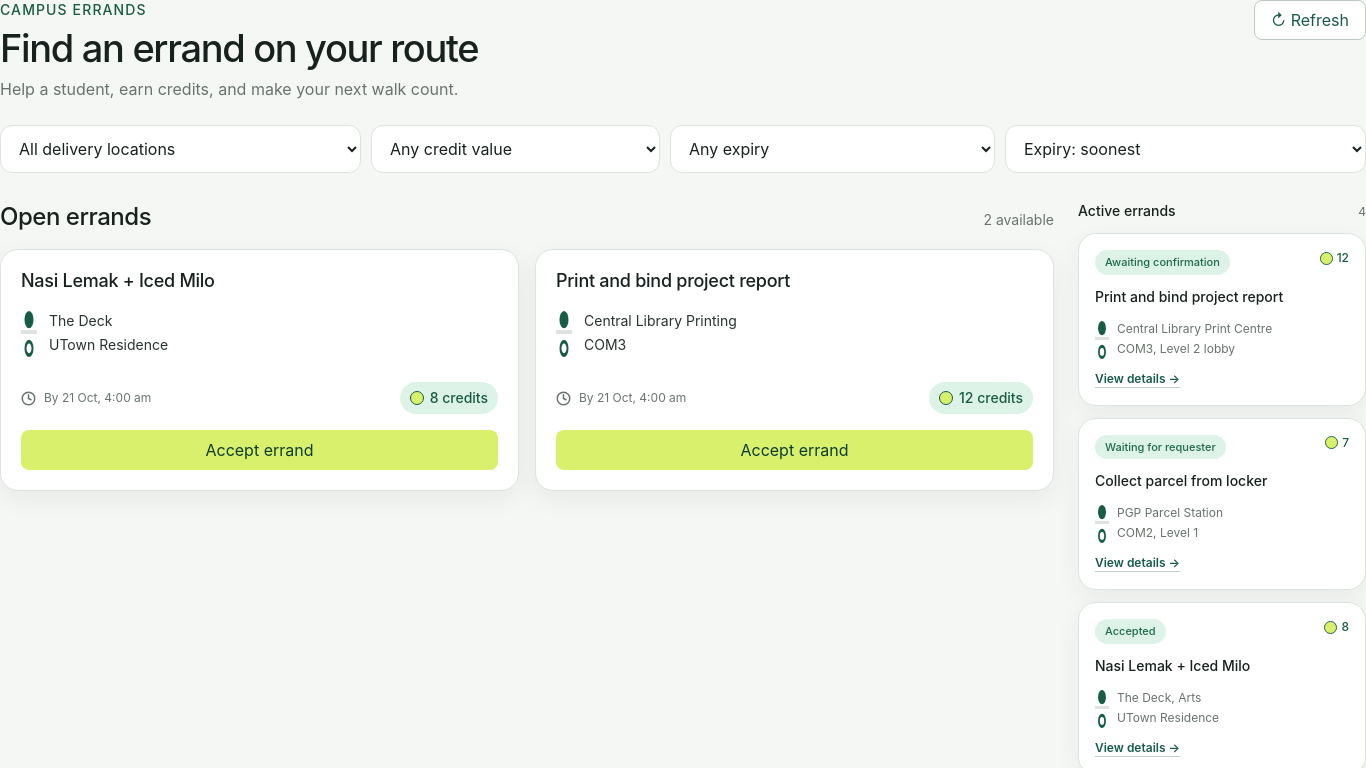
Test case: DashboardPage › lets the user leave the acceptance dialog without changing the lists
The width and height of the screenshot is (1366, 768).
Expected: the text "2 available" is shown, [983, 210, 1054, 230]
Click the button "Accept errand" below "Central Library Printing".
click(794, 450)  # box [556, 430, 1033, 470]
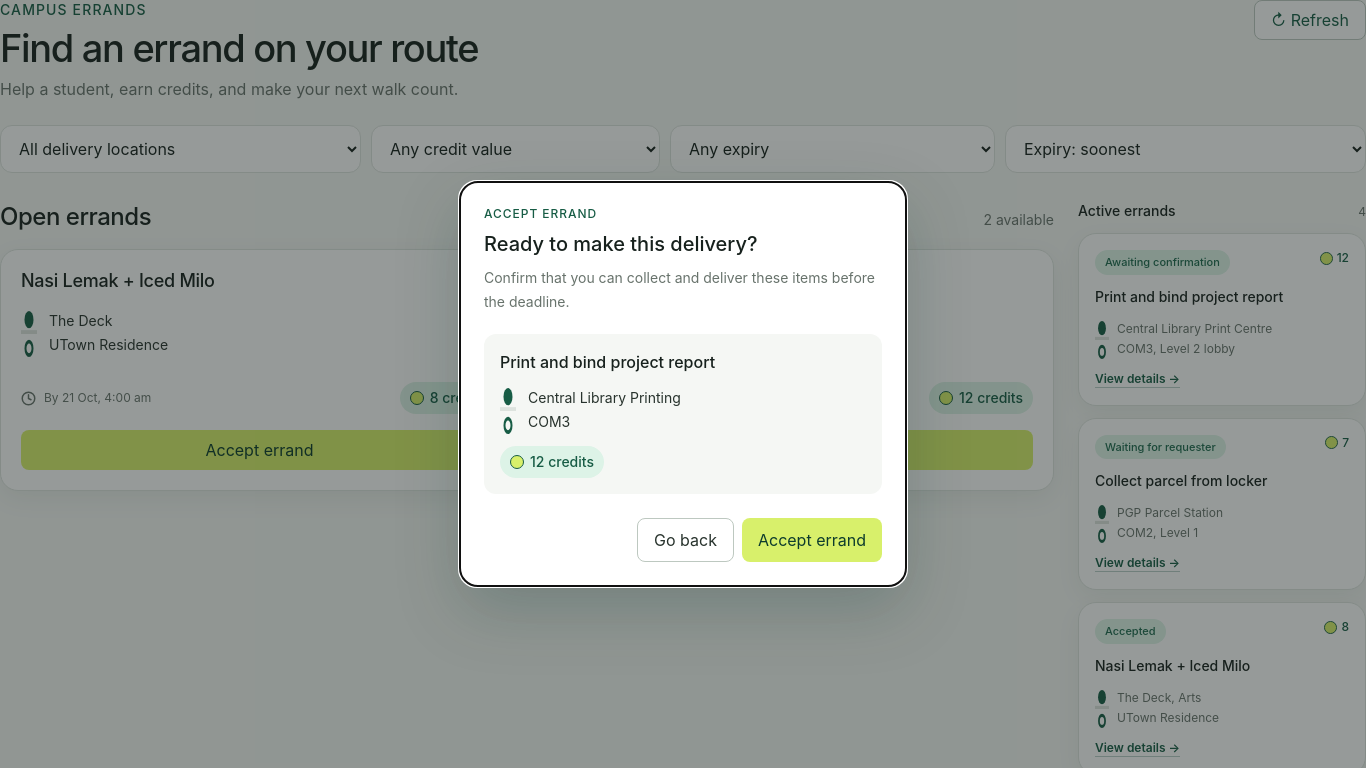
Click the button "Go back".
click(686, 540)  # box [637, 518, 734, 562]
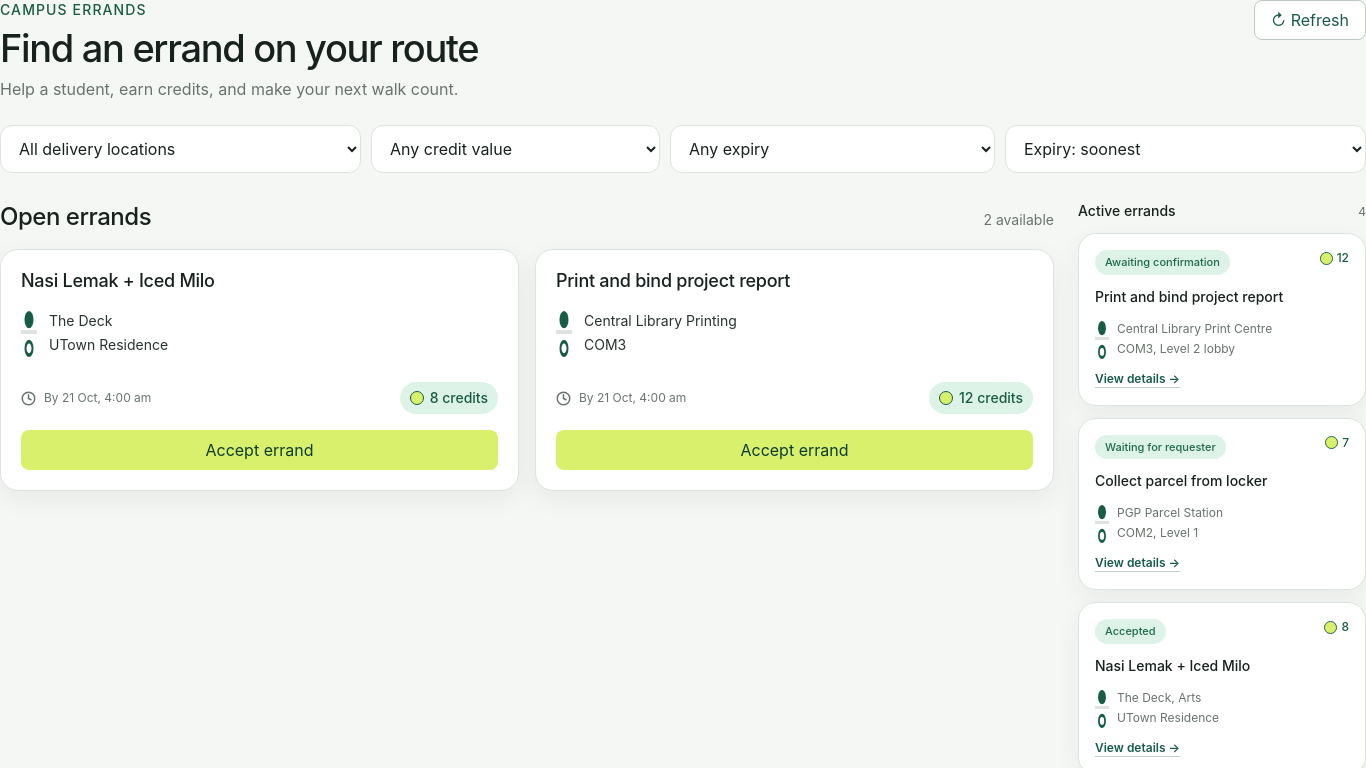
Expected: the text "2 available" is shown, [983, 210, 1054, 230]
Expected: the dialog is gone
